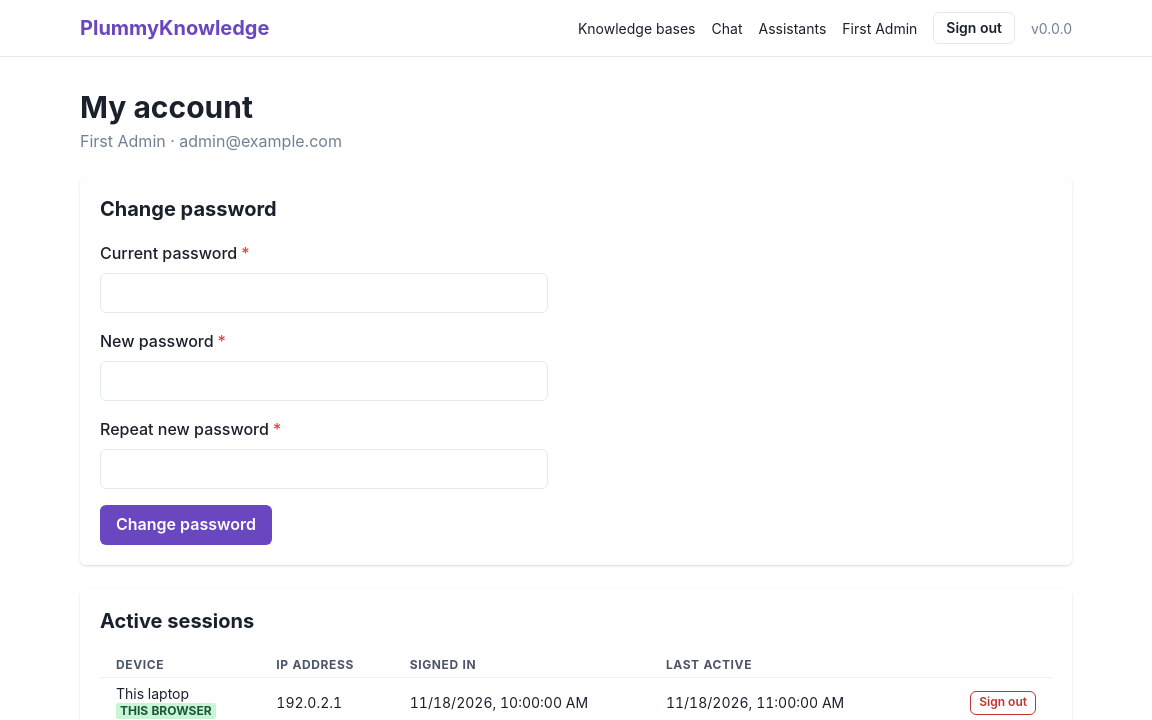
Test: AccountPage › changes the password and switches to the new CSRF token
Type "old password value" into the password field labelled "Current password*" at coordinates (324, 293), box [100,273,548,313]
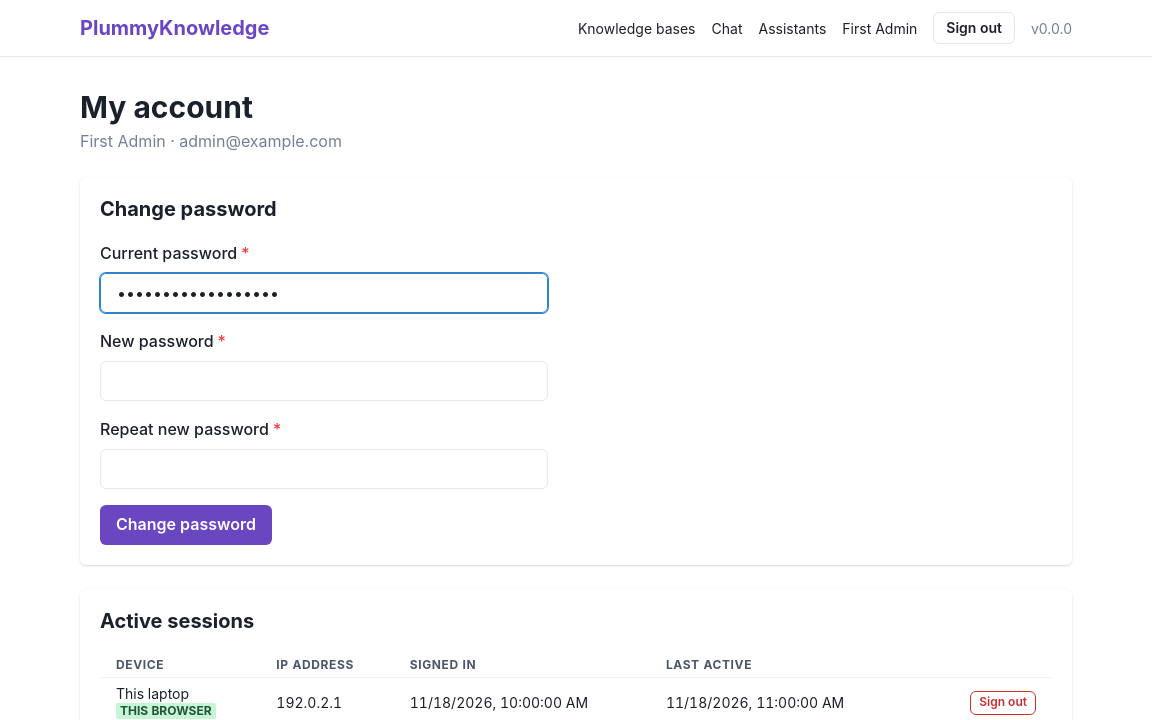
Type "brand new passphrase" into the password field labelled "New password*" at coordinates (324, 381), box [100,361,548,401]
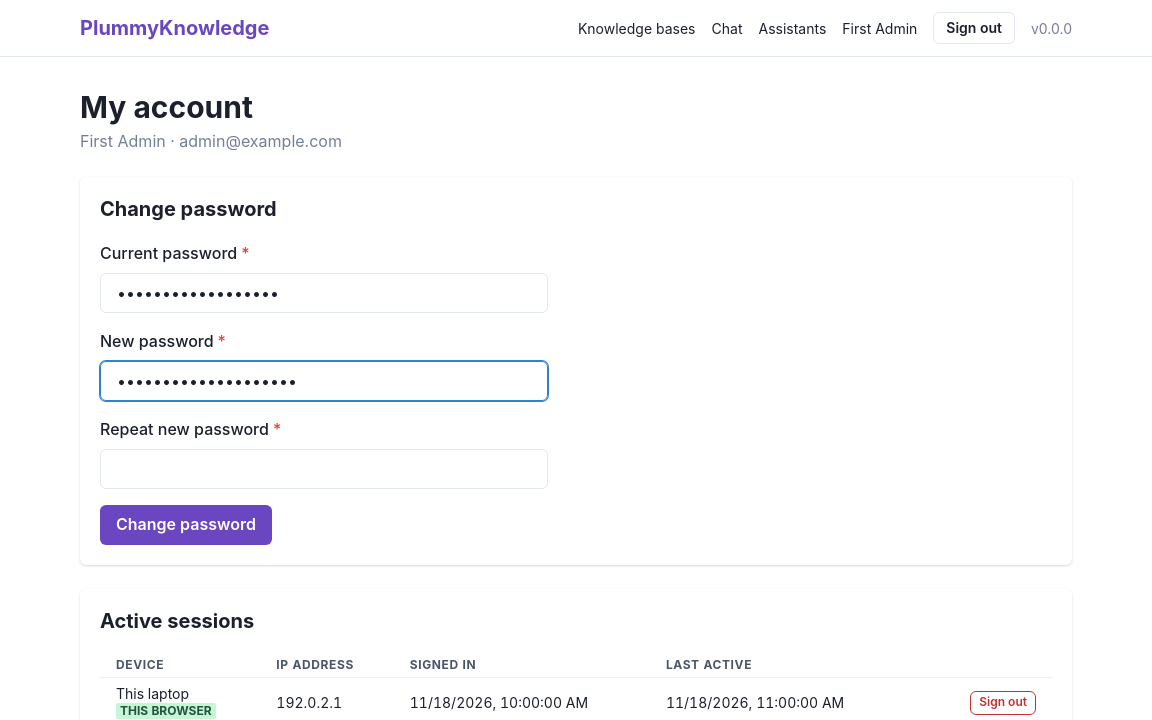
Type "brand new passphrase" into the password field labelled "Repeat new password*" at coordinates (324, 469), box [100,449,548,489]
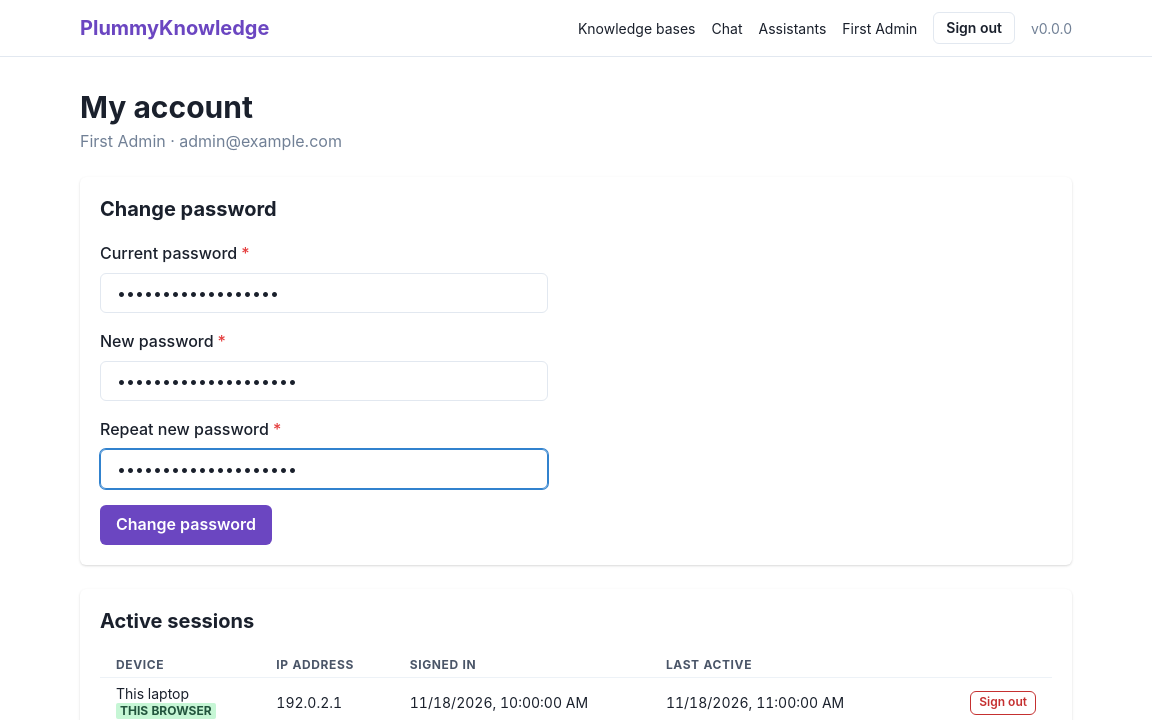
Click the button "Change password" at coordinates (186, 525), box [100,505,272,545]
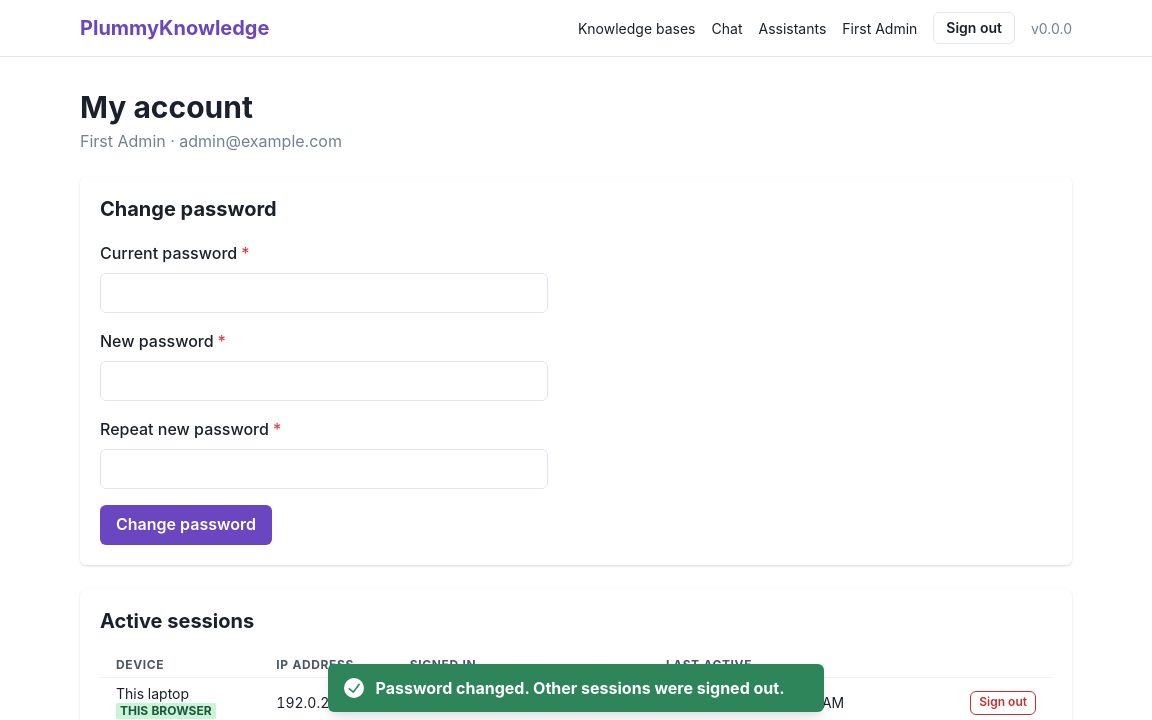
Expected: the text "Password changed. Other sessions were signed out." is shown, [376,676,784,700]
Expected: the password field labelled "Current password*" is empty, [100,273,548,313]
